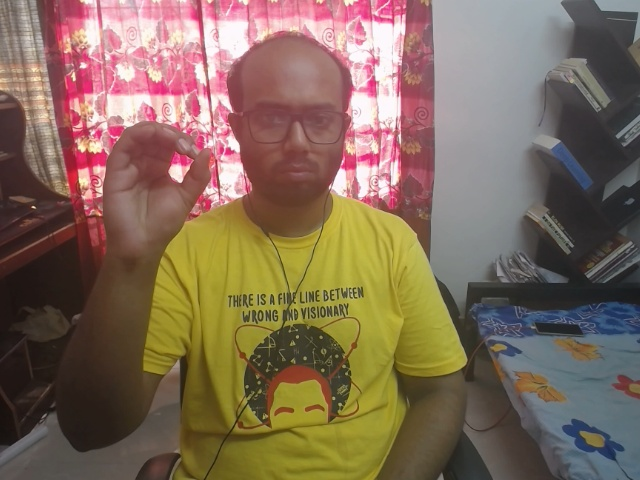zero: (92, 114, 247, 276)
